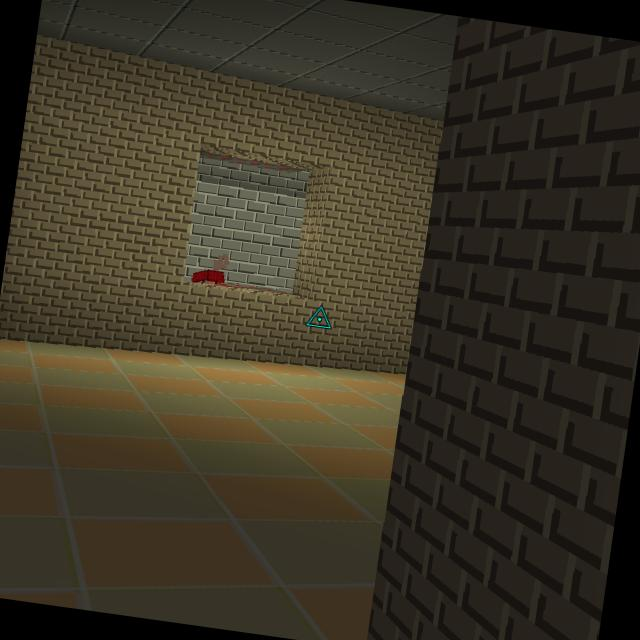enemy: (190, 266, 230, 288)
